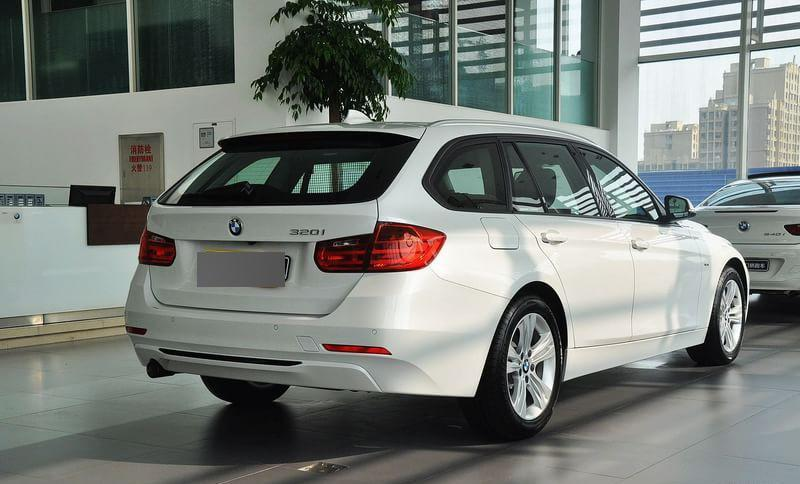Wagon: (123, 118, 751, 440)
